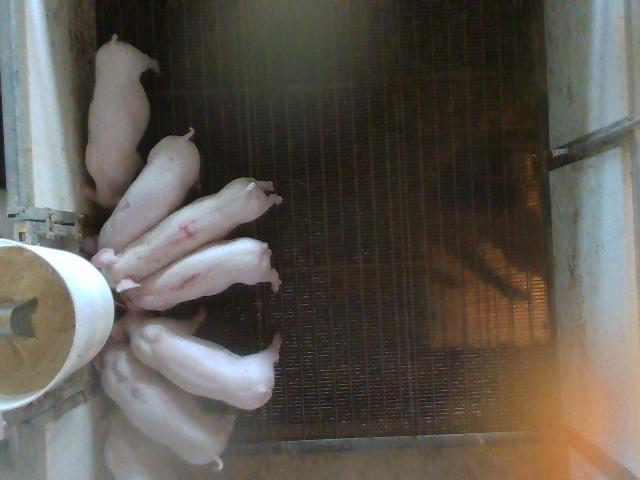pig-1: (121, 238, 281, 311)
pig-4: (92, 178, 281, 291)
